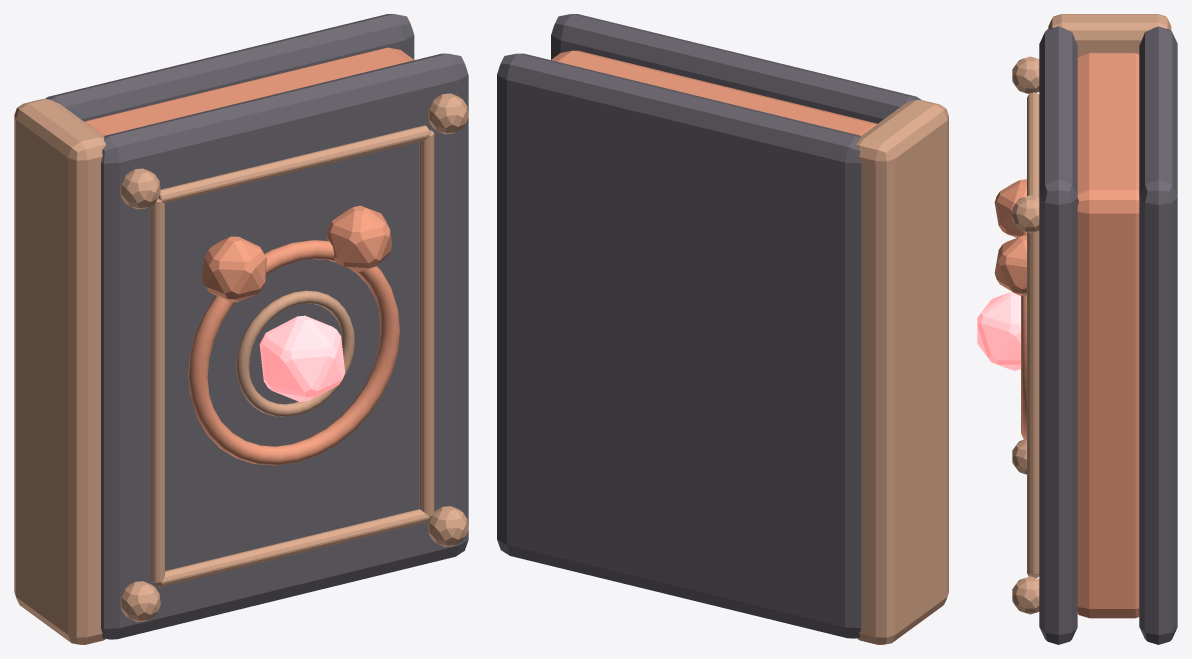
Rendered from mage-book-02-ember-grimoire.glb.
The picture shows the model from 3 angles, left to right: view 1: azimuth 30°, elevation 25°; view 2: azimuth 150°, elevation 25°; view 3: azimuth 270°, elevation 25°; orthographic projection. The views are drawn at different scales.
Visible parts, largest first — view 1: mage-book-02-ember-grimoire_FrontCover, mage-book-02-ember-grimoire_Spine, mage-book-02-ember-grimoire_BackCover, mage-book-02-ember-grimoire_CoverSigilRing, mage-book-02-ember-grimoire_PageBlock, mage-book-02-ember-grimoire_GiltFrameSide_1, mage-book-02-ember-grimoire_CoverGem, mage-book-02-ember-grimoire_GiltFrameSide_-1, mage-book-02-ember-grimoire_GiltFrame_0.86, mage-book-02-ember-grimoire_GiltFrame_0.1, mage-book-02-ember-grimoire_CoverSigilInner, mage-book-02-ember-grimoire_FlameMark_-1 (+5 smaller); view 2: mage-book-02-ember-grimoire_BackCover, mage-book-02-ember-grimoire_Spine, mage-book-02-ember-grimoire_FrontCover, mage-book-02-ember-grimoire_PageBlock; view 3: mage-book-02-ember-grimoire_PageBlock, mage-book-02-ember-grimoire_FrontCover, mage-book-02-ember-grimoire_BackCover, mage-book-02-ember-grimoire_GiltFrameSide_1, mage-book-02-ember-grimoire_Spine, mage-book-02-ember-grimoire_CoverGem, mage-book-02-ember-grimoire_FlameMark_1, mage-book-02-ember-grimoire_GiltFrame_0.86, mage-book-02-ember-grimoire_FlameMark_-1, mage-book-02-ember-grimoire_CornerStud_1_0.89, mage-book-02-ember-grimoire_CornerStud_1_0.07, mage-book-02-ember-grimoire_CornerStud_-1_0.89 (+2 smaller).
Part boxes in pixels (left/top/right/bottom): mage-book-02-ember-grimoire_FrontCover: left=101, top=53, right=468, bottom=639; mage-book-02-ember-grimoire_Spine: left=14, top=99, right=105, bottom=644; mage-book-02-ember-grimoire_BackCover: left=45, top=14, right=414, bottom=121; mage-book-02-ember-grimoire_CoverSigilRing: left=188, top=240, right=399, bottom=465; mage-book-02-ember-grimoire_PageBlock: left=84, top=47, right=414, bottom=135; mage-book-02-ember-grimoire_GiltFrameSide_1: left=419, top=130, right=434, bottom=516; mage-book-02-ember-grimoire_CoverGem: left=259, top=315, right=345, bottom=401; mage-book-02-ember-grimoire_GiltFrameSide_-1: left=150, top=198, right=164, bottom=582; mage-book-02-ember-grimoire_GiltFrame_0.86: left=158, top=125, right=429, bottom=203; mage-book-02-ember-grimoire_GiltFrame_0.1: left=155, top=509, right=429, bottom=587; mage-book-02-ember-grimoire_CoverSigilInner: left=236, top=290, right=354, bottom=416; mage-book-02-ember-grimoire_FlameMark_-1: left=202, top=236, right=266, bottom=302; mage-book-02-ember-grimoire_BackCover: left=497, top=53, right=861, bottom=638; mage-book-02-ember-grimoire_Spine: left=856, top=100, right=948, bottom=644; mage-book-02-ember-grimoire_FrontCover: left=551, top=14, right=921, bottom=123; mage-book-02-ember-grimoire_PageBlock: left=551, top=50, right=877, bottom=135; mage-book-02-ember-grimoire_PageBlock: left=1077, top=52, right=1139, bottom=618; mage-book-02-ember-grimoire_FrontCover: left=1039, top=26, right=1077, bottom=644; mage-book-02-ember-grimoire_BackCover: left=1139, top=26, right=1177, bottom=644; mage-book-02-ember-grimoire_GiltFrameSide_1: left=1027, top=231, right=1039, bottom=575; mage-book-02-ember-grimoire_Spine: left=1048, top=14, right=1171, bottom=56; mage-book-02-ember-grimoire_CoverGem: left=977, top=292, right=1020, bottom=370; mage-book-02-ember-grimoire_FlameMark_1: left=994, top=235, right=1026, bottom=295; mage-book-02-ember-grimoire_GiltFrame_0.86: left=1027, top=92, right=1039, bottom=197; mage-book-02-ember-grimoire_FlameMark_-1: left=994, top=179, right=1026, bottom=237; mage-book-02-ember-grimoire_CornerStud_1_0.89: left=1012, top=195, right=1039, bottom=233; mage-book-02-ember-grimoire_CornerStud_1_0.07: left=1012, top=576, right=1039, bottom=614; mage-book-02-ember-grimoire_CornerStud_-1_0.89: left=1012, top=56, right=1039, bottom=93.
Size of the model in its own units: 0.825 by 1 by 0.3912.
